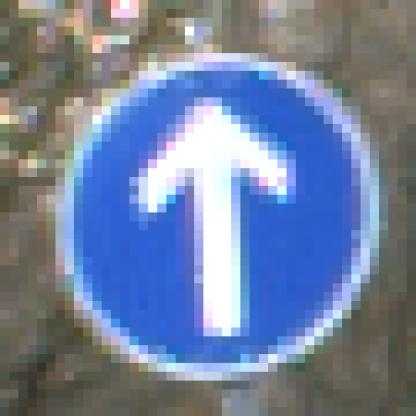AheadOnly: (56, 45, 371, 373)
